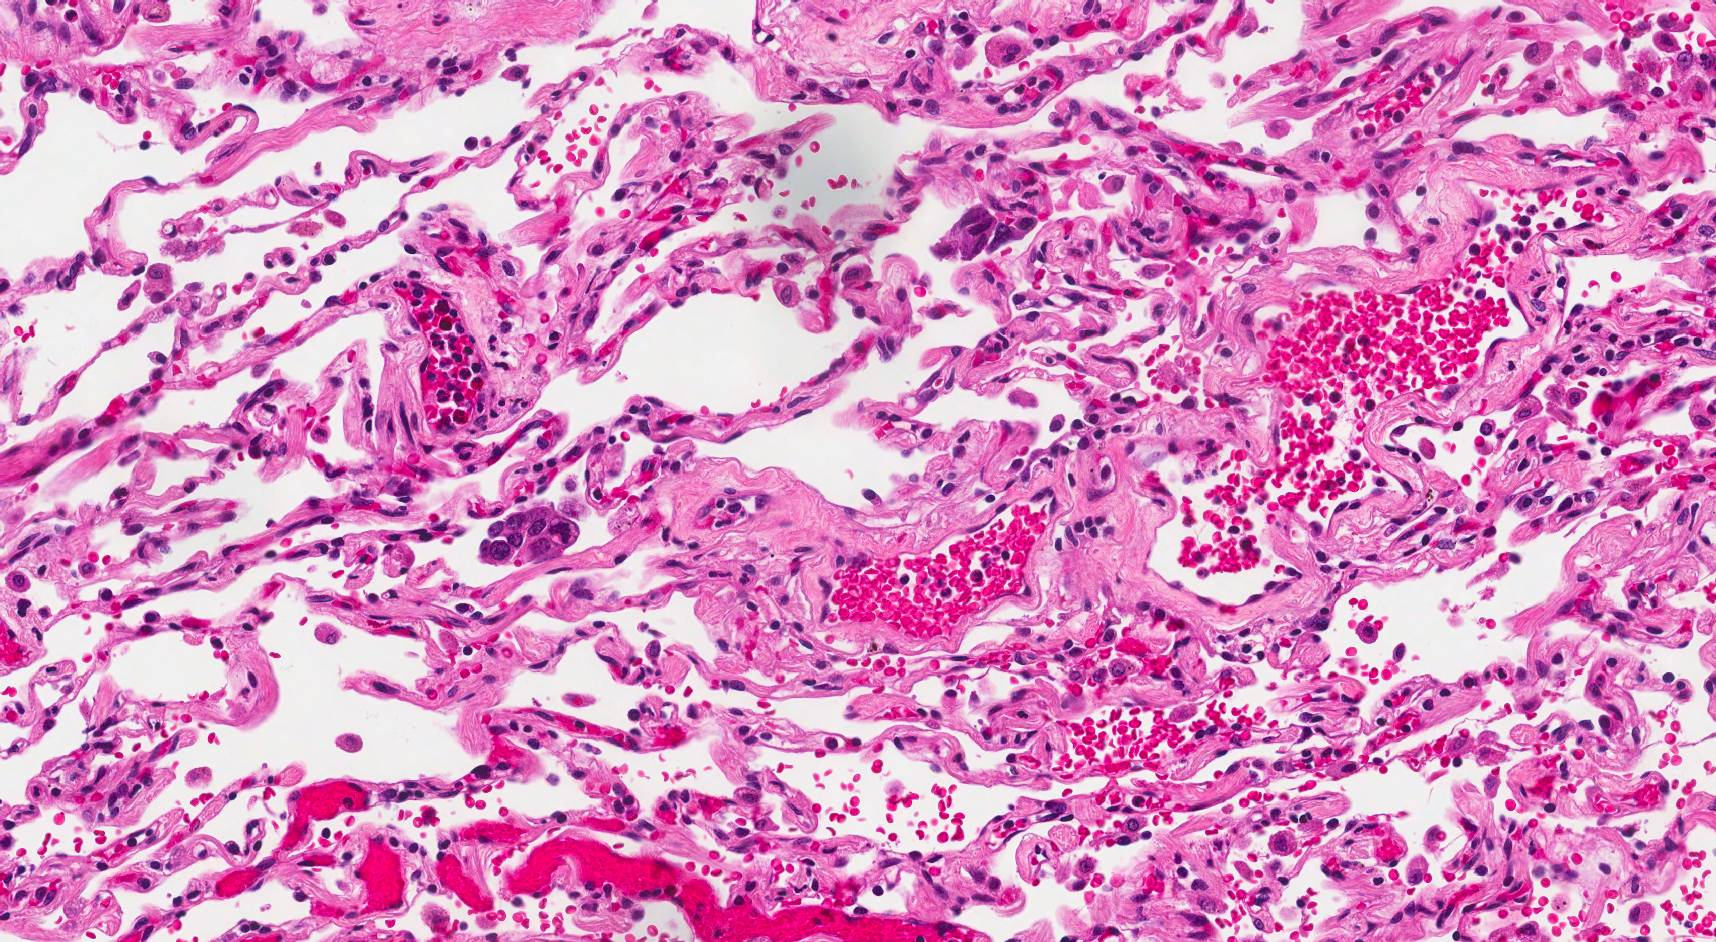stas: (475, 504, 588, 568), (931, 199, 1043, 263)
